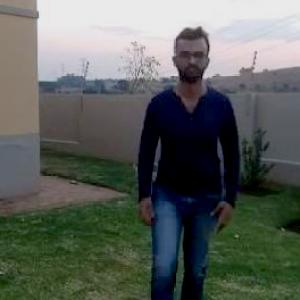follow: (136, 19, 240, 299)
